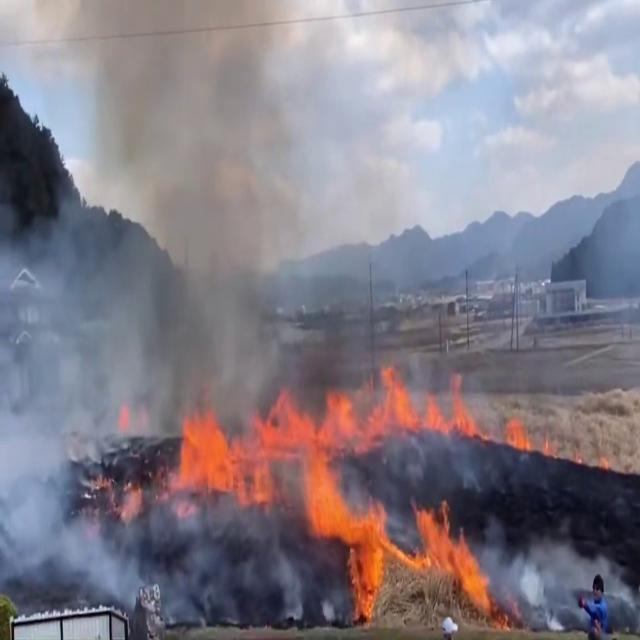Fire: (180, 421, 491, 619), (299, 360, 575, 466)
Smoke: (70, 0, 412, 373), (2, 160, 204, 620)
